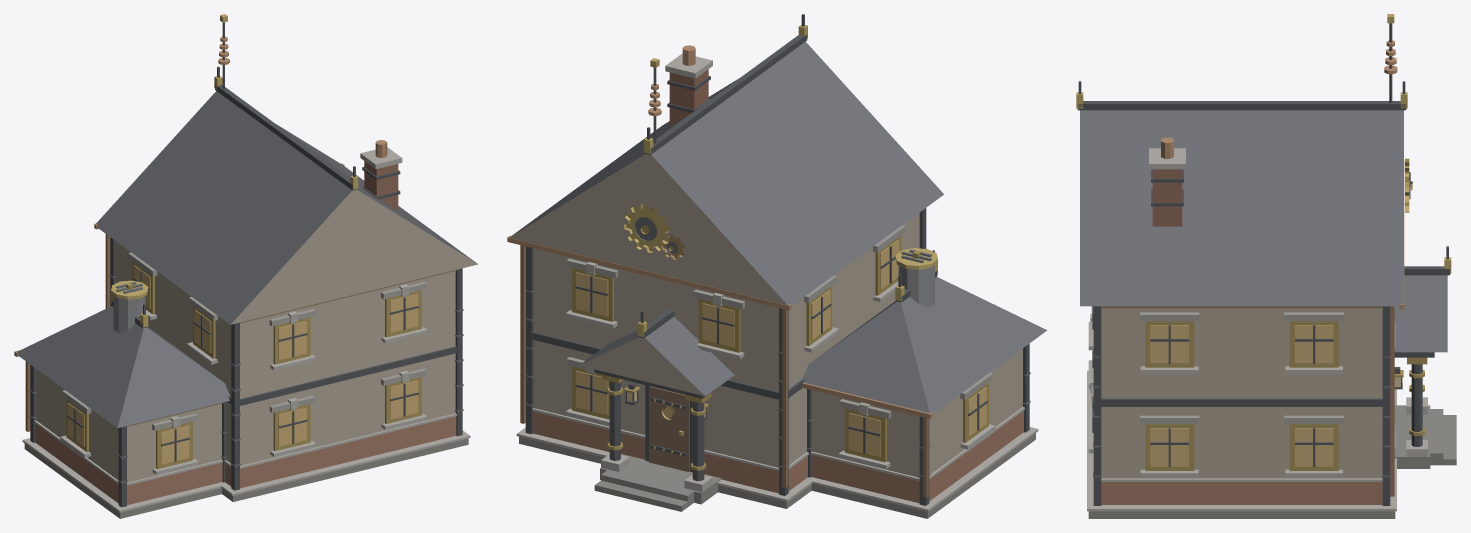
Rendered from casa-n05-29253fb9.glb.
3 renders of one model, left to right at view 1: azimuth 30°, elevation 25°; view 2: azimuth 150°, elevation 25°; view 3: azimuth 270°, elevation 25°, orthographic. The views are drawn at different scales.
Parts seen in each view (by area): view 1: casa_n05, casa_n05_glow; view 2: casa_n05, casa_n05_glow; view 3: casa_n05, casa_n05_glow.
Part boxes in pixels (<box>): casa_n05: <box>14,14,478,518</box>; casa_n05_glow: <box>67,265,418,464</box>; casa_n05: <box>507,14,1047,518</box>; casa_n05_glow: <box>576,240,986,456</box>; casa_n05: <box>1076,14,1456,518</box>; casa_n05_glow: <box>1150,325,1400,466</box>.
Size of the model in its own units: 11 by 10.96 by 8.68.
